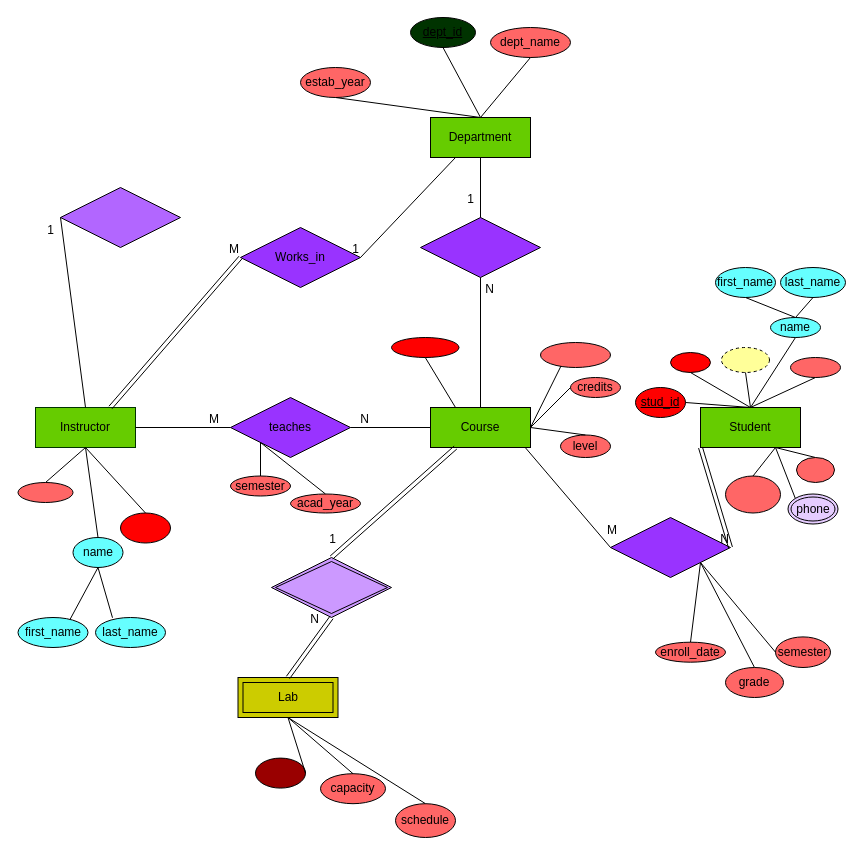
The diagram is 863 pixels wide and 855 high, and some of its shapes have lost their labels. The shapes that lost their labels are listed below. From the top down, each one's box as (x1, y1, x2, y2) in pixels, then its label:
(60, 186, 180, 248): Manage
(420, 216, 540, 278): offers
(390, 336, 459, 358): course_id
(540, 342, 610, 368): cour_name
(670, 352, 710, 372): NID
(720, 346, 770, 372): age
(790, 356, 840, 378): B_date
(796, 456, 834, 482): GPA
(17, 482, 73, 502): email
(724, 475, 780, 513): Gender
(120, 512, 170, 543): inst_id
(610, 516, 730, 578): enrolls_in
(270, 556, 392, 618): has
(254, 757, 306, 788): lab_no
